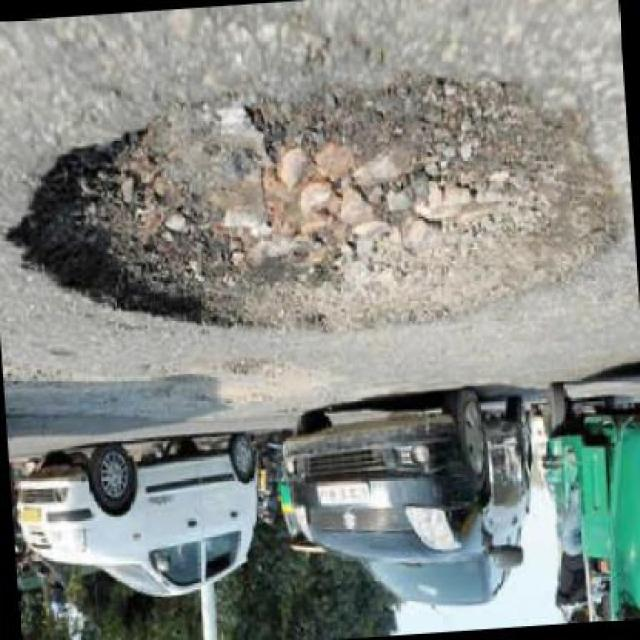pothole: (0, 57, 637, 363), (192, 354, 332, 415)
